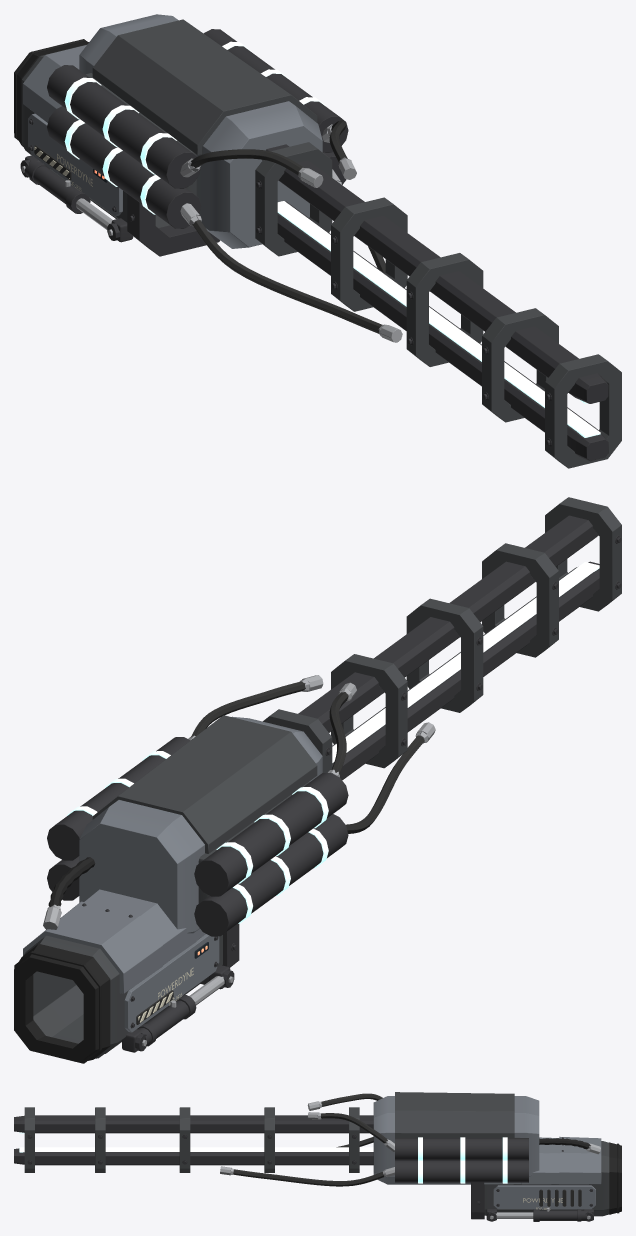
File: powerdyne.glb
3 views of the same model, one above another, from view 1: azimuth 30°, elevation 25°; view 2: azimuth 150°, elevation 25°; view 3: azimuth 270°, elevation 25° (orthographic). The views are drawn at different scales.
Parts seen in each view (by area): view 1: Body; view 2: Body; view 3: Body.
Part boxes in pixels (x1,y1,x2,y2): Body: [14, 14, 621, 468]; Body: [14, 497, 621, 1063]; Body: [14, 1092, 621, 1221].
Size of the model in its own units: 0.338 by 0.35 by 1.72.
